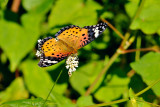Argyreus hyperbius: (30, 19, 110, 68)
butterfly: (32, 21, 112, 70)
